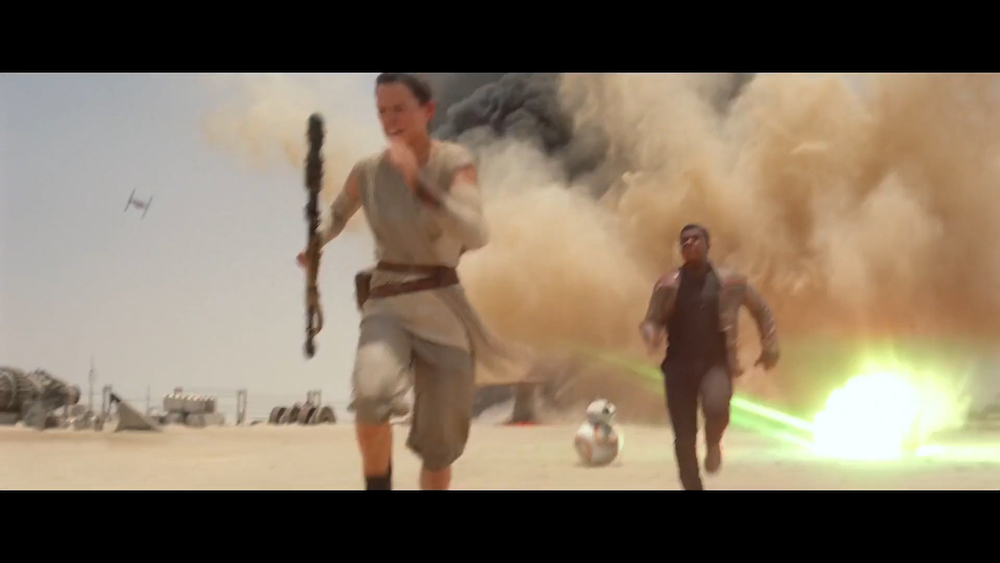Tie Fighter: (123, 190, 154, 221)
